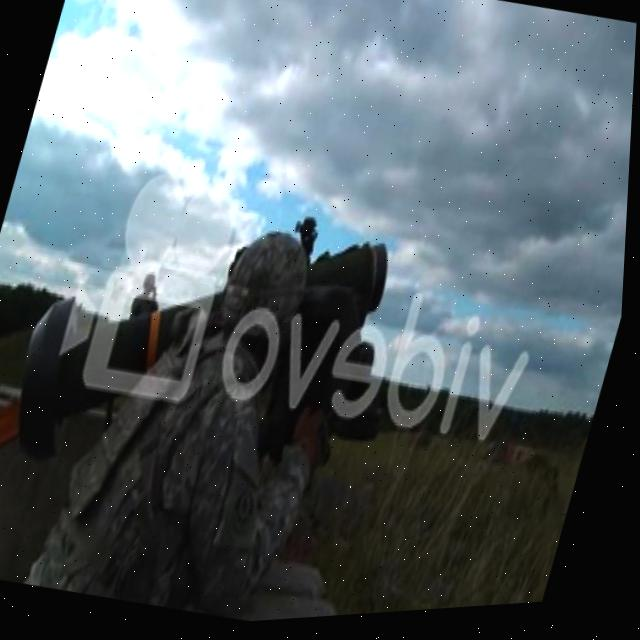rocket: (7, 181, 395, 522)
